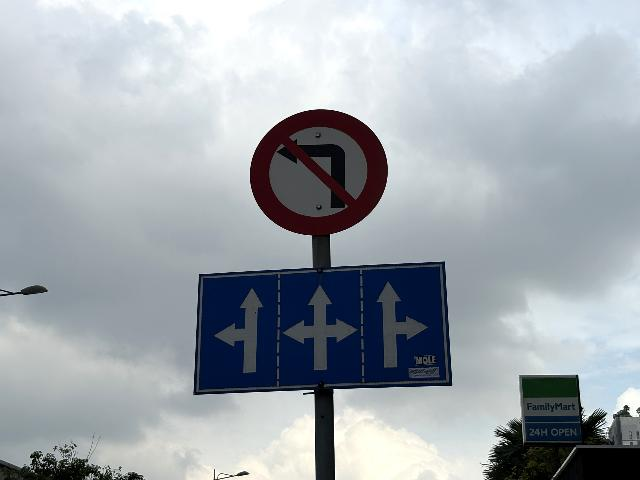cam-re-trai: (248, 107, 387, 236)
